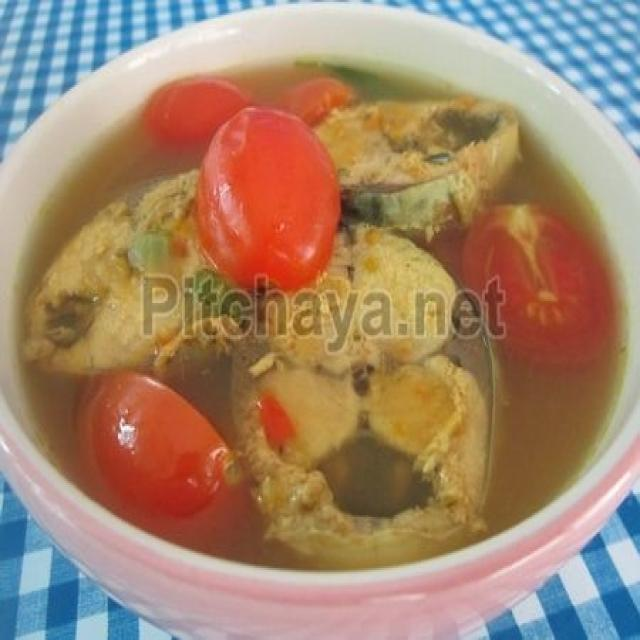汤锅炖物: (16, 30, 618, 589)
